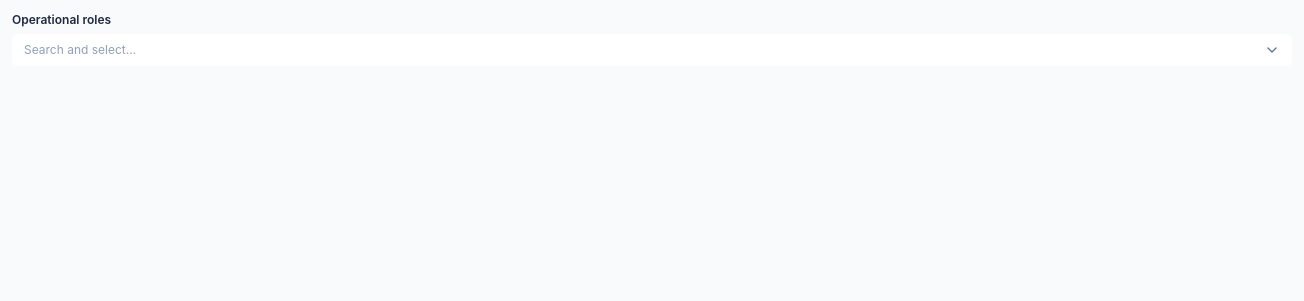
SearchableMultiSelect accessibility and interaction › closes when Done is activated and returns focus to the trigger
Click the button "Search and select...": (80,50) [12, 34, 1292, 66]
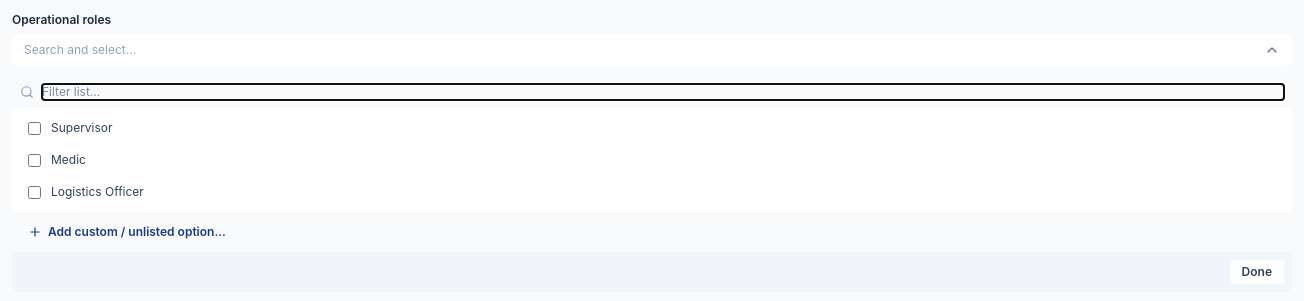
Click the button "Done": (1257,272) [1230, 260, 1284, 284]
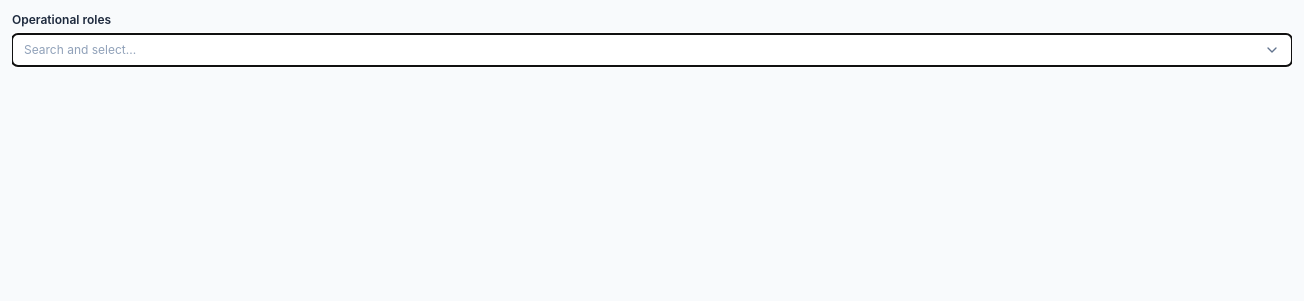
Expected: the button "Search and select..." is collapsed, [12, 34, 1292, 66]
